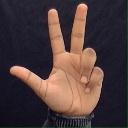hand: (9, 3, 104, 116)
